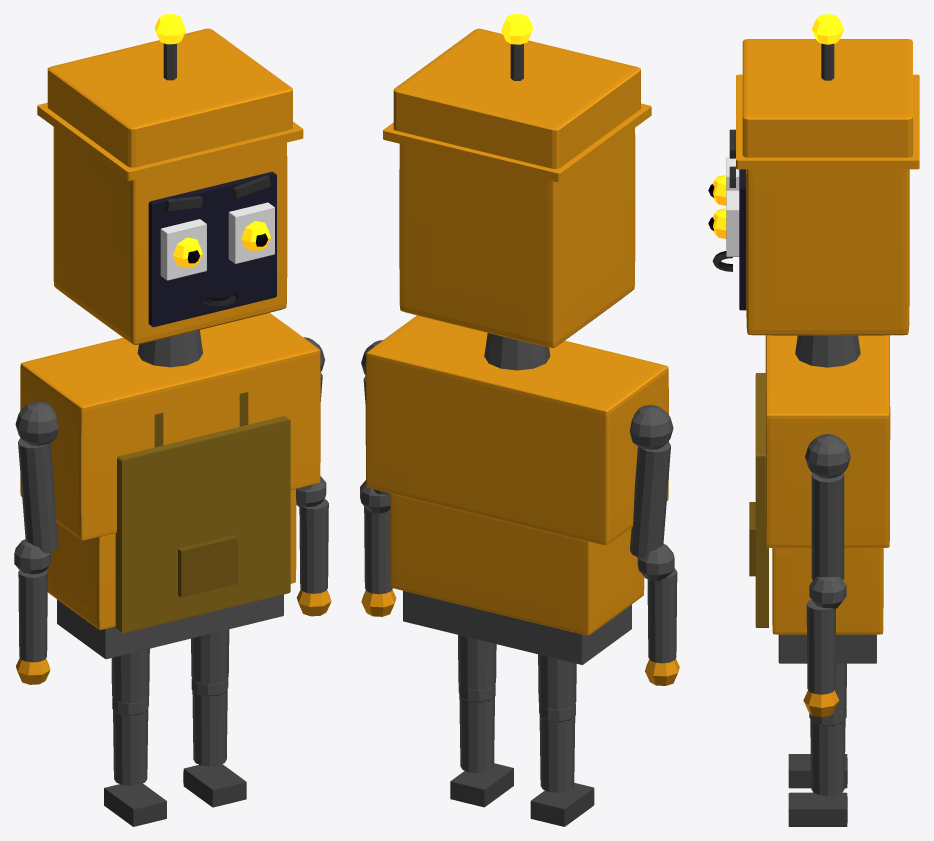
File: forge.glb
The picture shows the model from 3 angles, left to right: view 1: azimuth 30°, elevation 25°; view 2: azimuth 150°, elevation 25°; view 3: azimuth 270°, elevation 25°; orthographic projection.
Visible parts, largest first — view 1: forge_chest, forge_apron, forge_hat_dome, forge_head, forge_face_plate, forge_waist, forge_hips, forge_hat_brim, forge_l_upper_arm, forge_apron_pocket, forge_l_forearm, forge_r_forearm (+17 smaller); view 2: forge_chest, forge_head, forge_hat_dome, forge_waist, forge_hips, forge_hat_brim, forge_l_upper_arm, forge_r_calf, forge_l_calf, forge_l_forearm, forge_r_forearm, forge_l_foot (+10 smaller); view 3: forge_head, forge_chest, forge_hat_dome, forge_waist, forge_hat_brim, forge_r_upper_arm, forge_apron, forge_r_forearm, forge_r_calf, forge_hips, forge_r_foot, forge_neck (+10 smaller).
Part boxes in pixels (<box>): forge_chest: <box>20,313,320,540</box>; forge_apron: <box>115,416,290,633</box>; forge_hat_dome: <box>47,28,292,167</box>; forge_head: <box>53,127,287,344</box>; forge_face_plate: <box>148,171,276,327</box>; forge_waist: <box>46,489,296,629</box>; forge_hips: <box>57,594,283,659</box>; forge_hat_brim: <box>37,102,303,180</box>; forge_l_upper_arm: <box>18,438,58,553</box>; forge_apron_pocket: <box>178,535,237,597</box>; forge_l_forearm: <box>18,570,47,662</box>; forge_r_forearm: <box>299,499,328,593</box>; forge_chest: <box>365,315,668,545</box>; forge_head: <box>399,128,635,347</box>; forge_hat_dome: <box>393,28,640,168</box>; forge_waist: <box>390,493,644,635</box>; forge_hips: <box>403,591,631,664</box>; forge_hat_brim: <box>383,103,651,182</box>; forge_l_upper_arm: <box>630,441,670,558</box>; forge_r_calf: <box>459,695,494,773</box>; forge_l_calf: <box>539,715,575,792</box>; forge_l_forearm: <box>647,568,677,663</box>; forge_r_forearm: <box>364,506,392,594</box>; forge_l_foot: <box>530,783,594,826</box>; forge_head: <box>746,169,909,335</box>; forge_chest: <box>765,335,890,547</box>; forge_hat_dome: <box>742,39,912,157</box>; forge_waist: <box>772,548,883,634</box>; forge_hat_brim: <box>736,74,919,169</box>; forge_r_upper_arm: <box>811,473,844,580</box>; forge_apron: <box>755,373,768,627</box>; forge_r_forearm: <box>806,599,835,694</box>; forge_r_calf: <box>810,719,845,795</box>; forge_hips: <box>778,634,876,663</box>; forge_r_foot: <box>788,792,847,826</box>; forge_neck: <box>795,335,860,367</box>.
Size of the model in its own units: 1.1 by 2.64 by 0.645.
